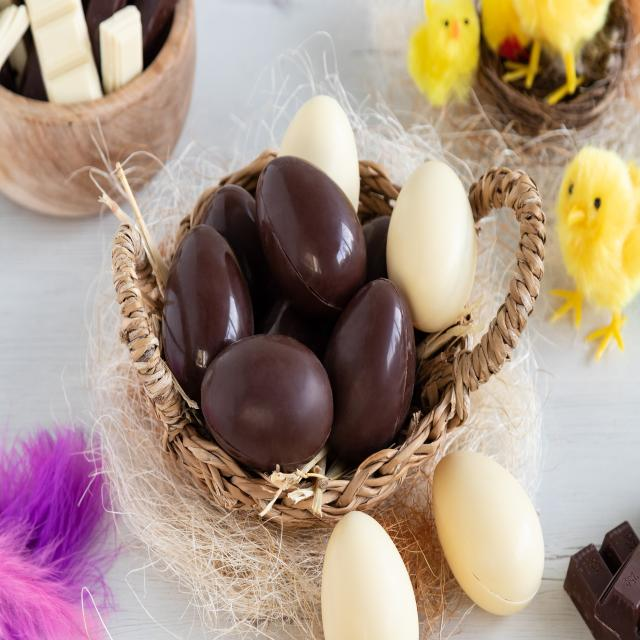huevos: (424, 453, 555, 626)
